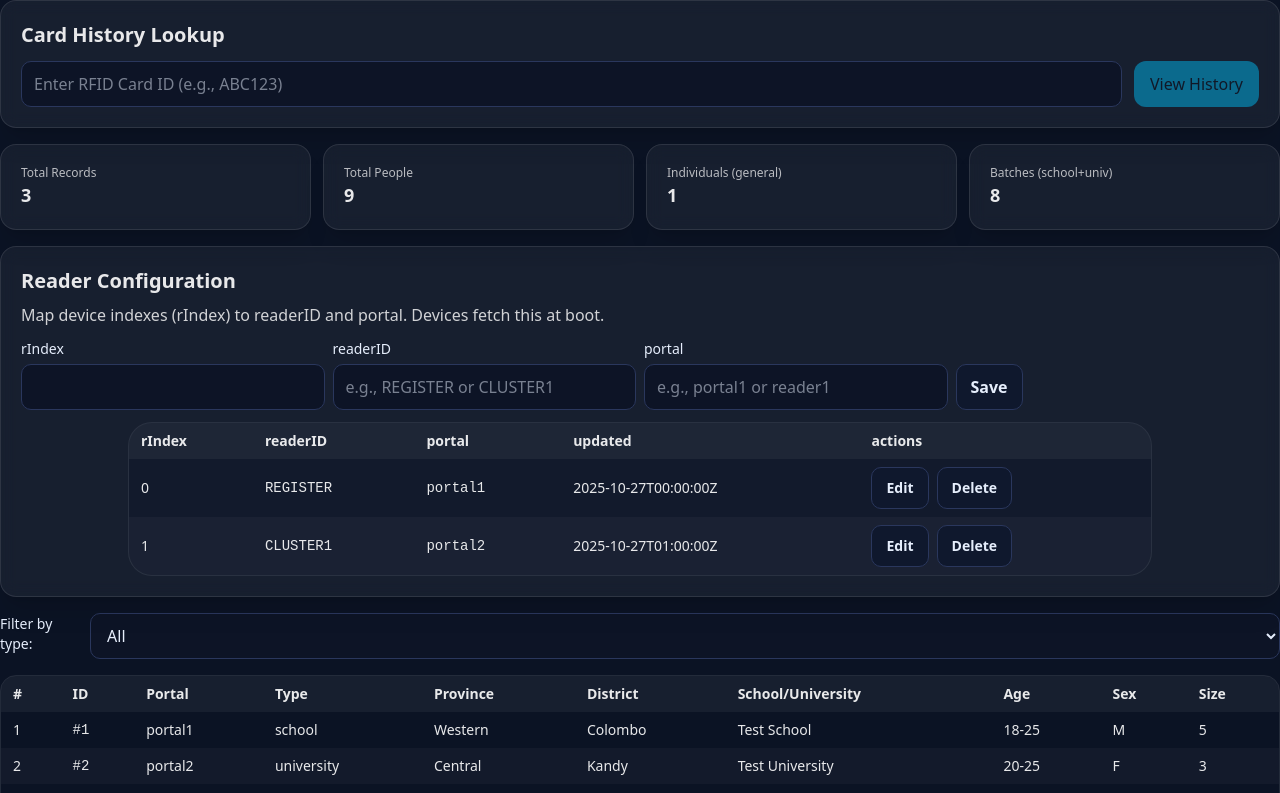
Scenario: AdminPortal › Reader Configuration Management › should handle reader configuration API errors
Expected: the heading "Reader Configuration" is shown, [21, 267, 236, 294]
Type "2" into the number field at [173, 387], box [21, 364, 324, 410]
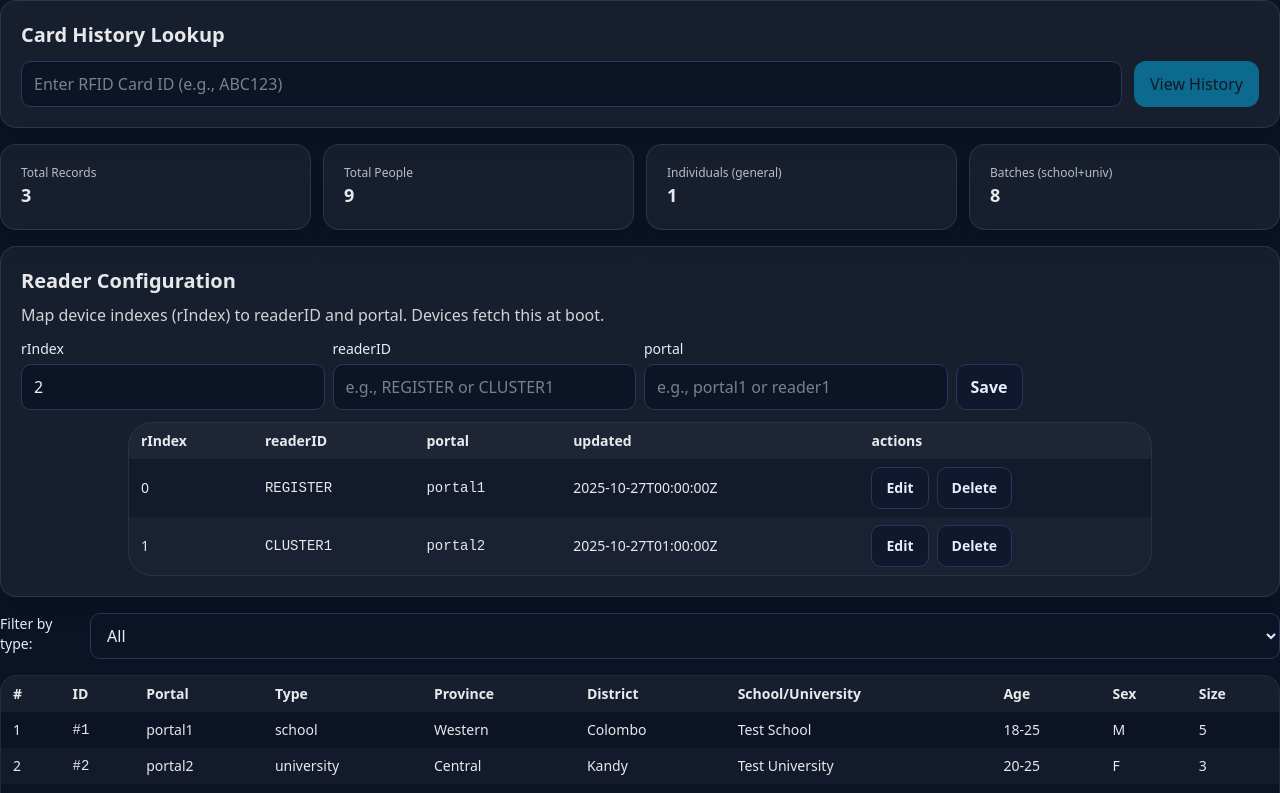
Type "CLUSTER2" into the field with placeholder "e.g., REGISTER or CLUSTER1" at [484, 387], box [332, 364, 636, 410]
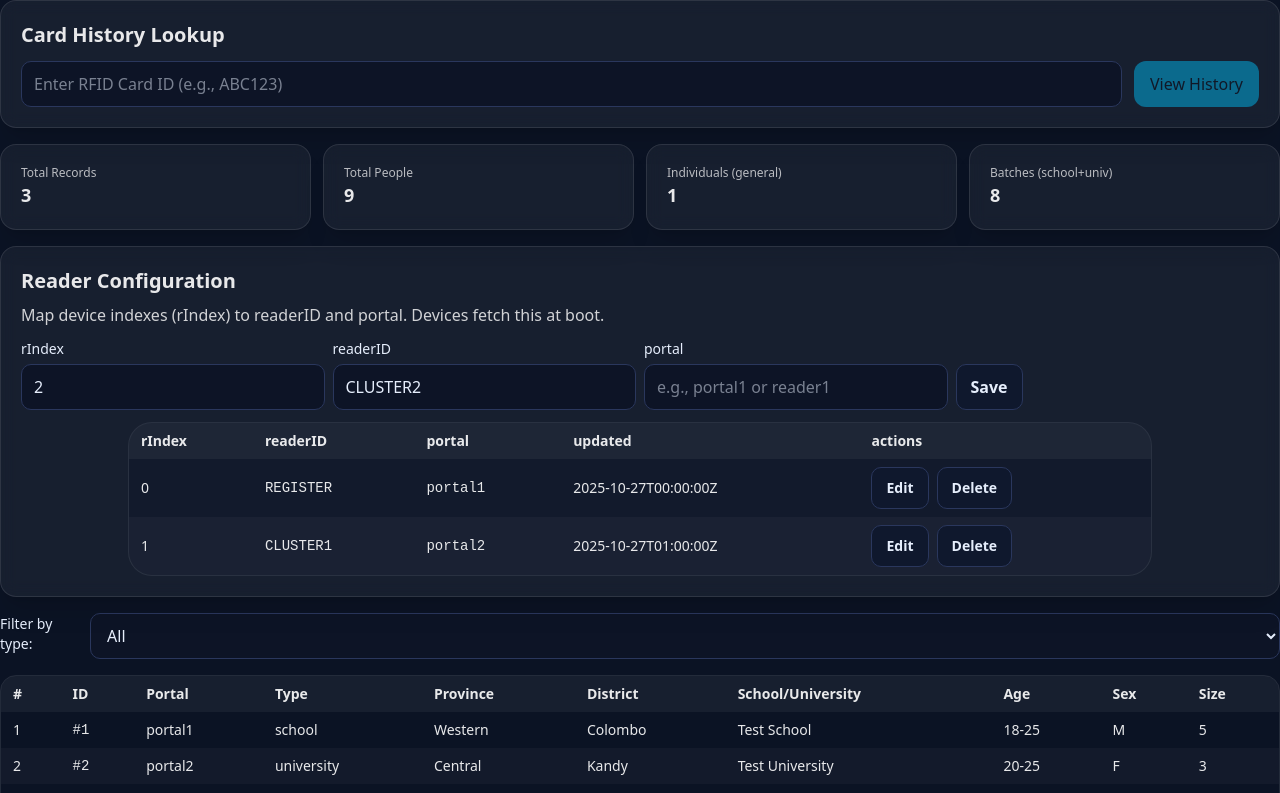
Type "portal3" into the field with placeholder "e.g., portal1 or reader1" at [796, 387], box [644, 364, 948, 410]
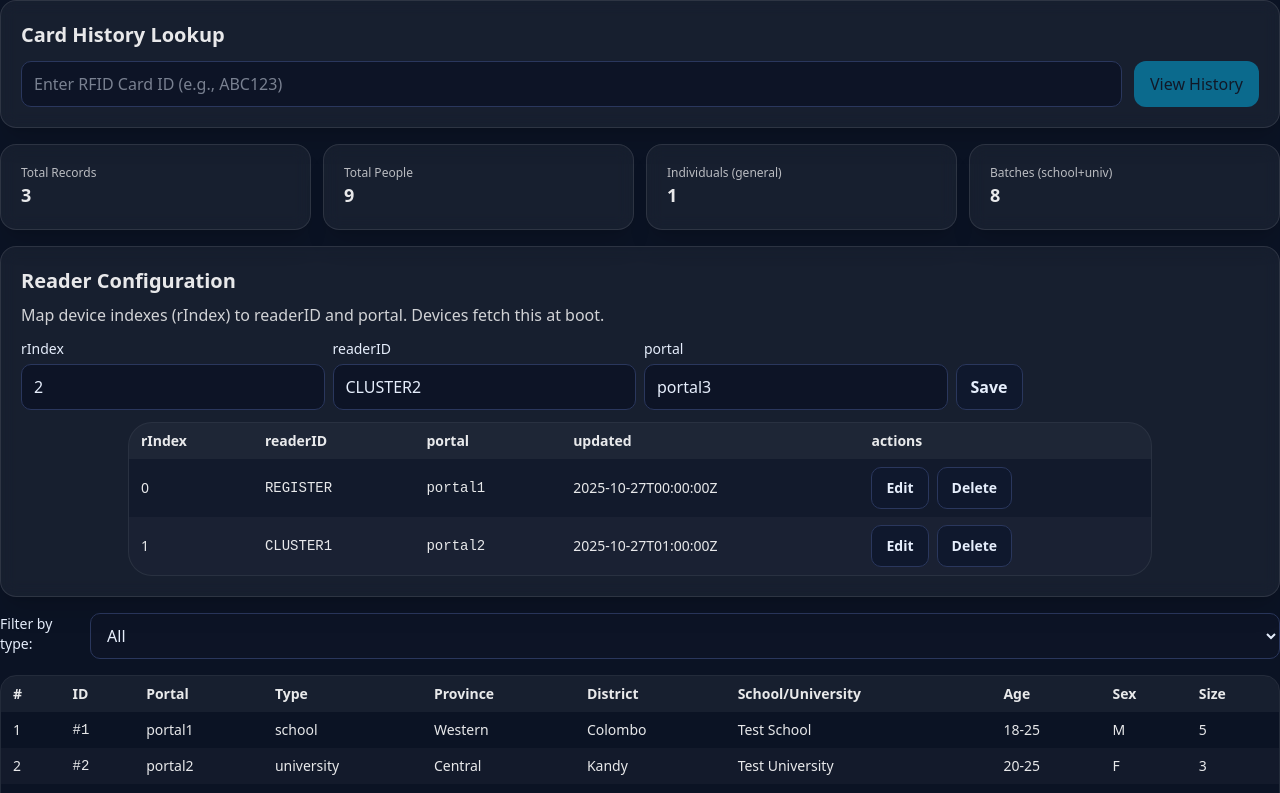
Click the button "Save" at [989, 387], box [956, 364, 1022, 410]
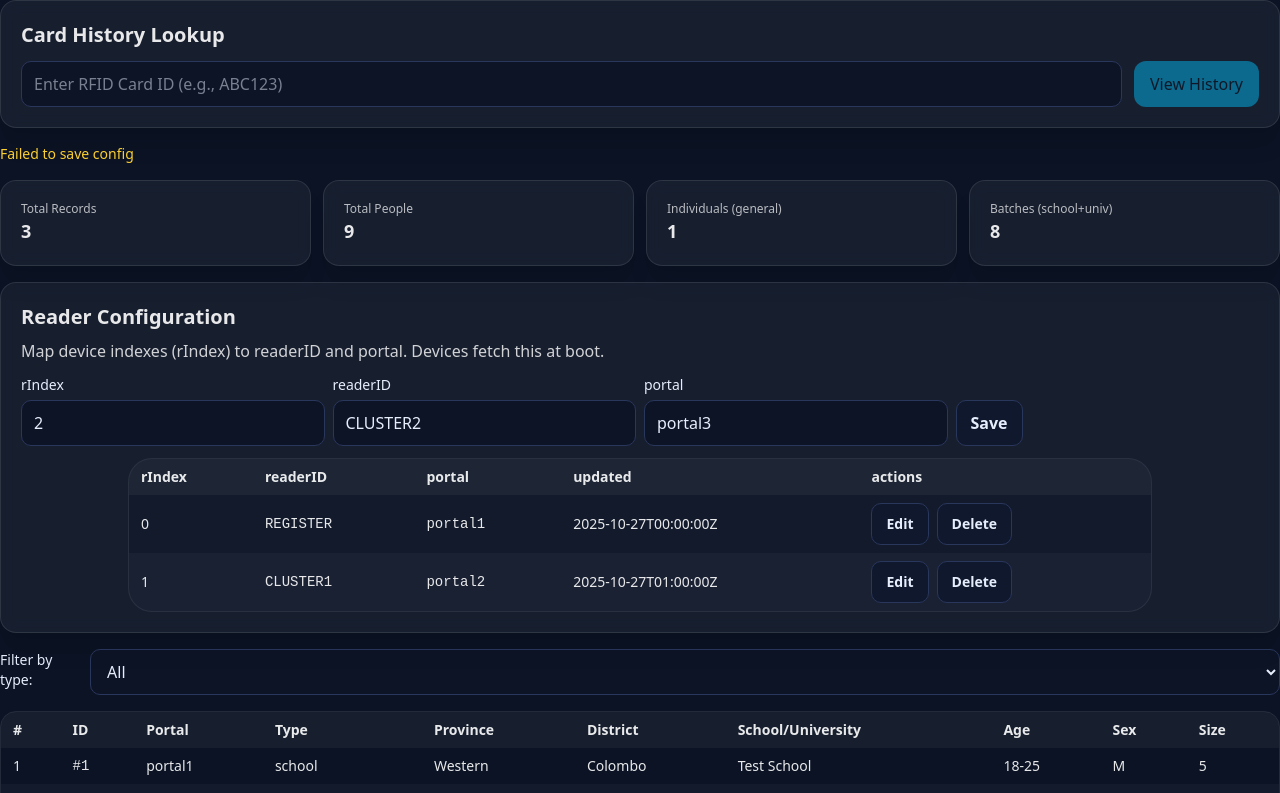
Result: the text "Failed to save config" is shown at [0, 144, 134, 163]
